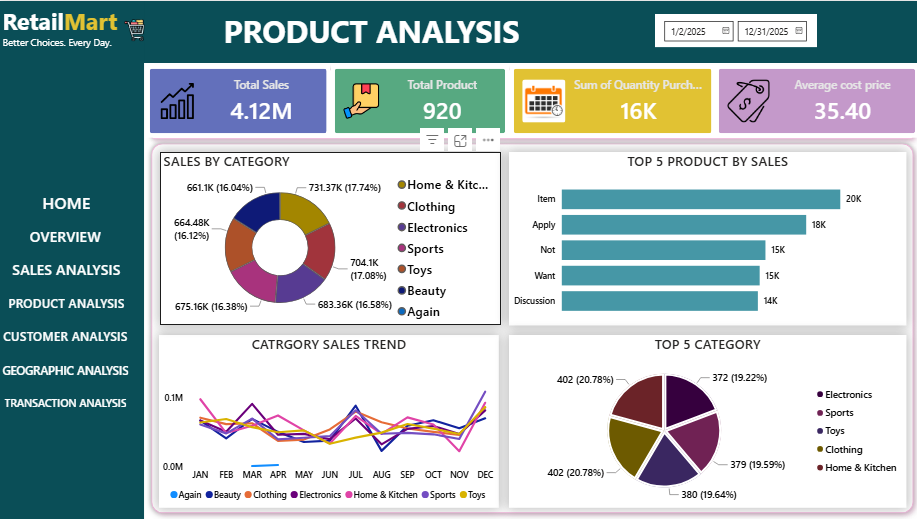

What the dashboard file says about the page in this screenshot:
{"tool":"powerbi","page":{"name":"PRODUCT ANALYSIS","canvas":[1280,720],"ordinal":4},"visuals":[{"type":"shape","box":[203.7,189,1076.1,531.3],"z":0},{"type":"shape","box":[0,0,1280,86.3],"z":1000},{"type":"shape","box":[0,0,203.1,720.7],"z":2000},{"type":"shape","box":[203.7,85.9,1076.1,114.1],"z":3000},{"type":"textbox","box":[308.5,7,433.8,71.8],"z":4000},{"type":"slicer","fields":{"Values":["public Sales Data.Date"]},"box":[912.7,18.3,225.4,46.5],"z":5000},{"type":"textbox","box":[1.4,0,253.5,78.9],"z":6000,"group":"g1"},{"type":"cardVisual","fields":{"Data":["public Sales Data.Average cost price"]},"box":[996.3,89.6,283.4,100.6],"z":6000},{"type":"cardVisual","fields":{"Data":["Sum(public Sales Data.Quantity Purchased)"]},"box":[710.4,89.6,285.9,100.6],"z":7000},{"type":"cardVisual","fields":{"Data":["public Sales Data.Total Product"]},"box":[462.6,89.6,247.9,100.6],"z":8000},{"type":"cardVisual","fields":{"Data":["public Sales Data.Total Sales"]},"box":[206.1,89.6,256.4,100.6],"z":9000},{"type":"lineChart","title":"CATRGORY  SALES TREND","fields":{"Category":["public Sales Data.MONTH_NAME"],"Series":["public Sales Data.Category"],"Y":["public Sales Data.Total Sales"]},"box":[223.3,463.8,472.4,240.5],"z":10000},{"type":"donutChart","title":"SALES BY CATEGORY","fields":{"Category":["public Sales Data.Category"],"Y":["public Sales Data.Total Sales"]},"box":[224.5,209.8,473.6,240.5],"z":11000},{"type":"clusteredBarChart","title":"TOP 5 PRODUCT BY SALES","fields":{"Category":["public Sales Data.Product Name"],"Y":["public Sales Data.Total Sales"]},"box":[709.6,210.1,552.3,240.7],"z":12000},{"type":"pieChart","title":"TOP 5 CATEGORY","fields":{"Category":["public Sales Data.Category"],"Y":["public Sales Data.Total Product"]},"box":[709.2,463.8,552.2,240.5],"z":13000},{"type":"actionButton","box":[1.4,256.3,187.3,46.5],"z":14000},{"type":"actionButton","box":[0,302.8,187.3,46.5],"z":15000},{"type":"actionButton","box":[1.4,349.3,187.3,46.5],"z":16000},{"type":"actionButton","box":[1.4,395.8,187.3,46.5],"z":17000},{"type":"actionButton","box":[0,442.3,187.3,46.5],"z":18000},{"type":"actionButton","box":[0,488.7,187.3,46.5],"z":19000},{"type":"actionButton","box":[0,535.2,187.3,46.5],"z":20000},{"type":"group","id":"g1","title":"Group 1","box":[1.4,0,253.5,78.9],"z":21000},{"type":"image","box":[168.7,24.4,43.6,31.2],"z":30001,"group":"g1"}]}

Visuals, with their boxes in screenshot pixels (x1, y1, x2, y2), scaled from the page's 1280x720 canvas onto the 917x519 screenshot:
shape: l=146, t=136, r=916, b=518
shape: l=0, t=0, r=916, b=62
shape: l=0, t=0, r=146, b=518
shape: l=146, t=62, r=916, b=144
textbox: l=221, t=5, r=532, b=57
slicer - public Sales Data.Date: l=654, t=13, r=815, b=47
textbox: l=1, t=0, r=183, b=57
cardVisual - public Sales Data.Average cost price: l=714, t=65, r=916, b=137
cardVisual - Sum(public Sales Data.Quantity Purchased): l=509, t=65, r=714, b=137
cardVisual - public Sales Data.Total Product: l=331, t=65, r=509, b=137
cardVisual - public Sales Data.Total Sales: l=148, t=65, r=331, b=137
"CATRGORY  SALES TREND" lineChart: l=160, t=334, r=498, b=508
"SALES BY CATEGORY" donutChart: l=161, t=151, r=500, b=325
"TOP 5 PRODUCT BY SALES" clusteredBarChart: l=508, t=151, r=904, b=325
"TOP 5 CATEGORY" pieChart: l=508, t=334, r=904, b=508
actionButton: l=1, t=185, r=135, b=218
actionButton: l=0, t=218, r=134, b=252
actionButton: l=1, t=252, r=135, b=285
actionButton: l=1, t=285, r=135, b=319
actionButton: l=0, t=319, r=134, b=352
actionButton: l=0, t=352, r=134, b=386
actionButton: l=0, t=386, r=134, b=419
"Group 1" group: l=1, t=0, r=183, b=57
image: l=121, t=18, r=152, b=40
